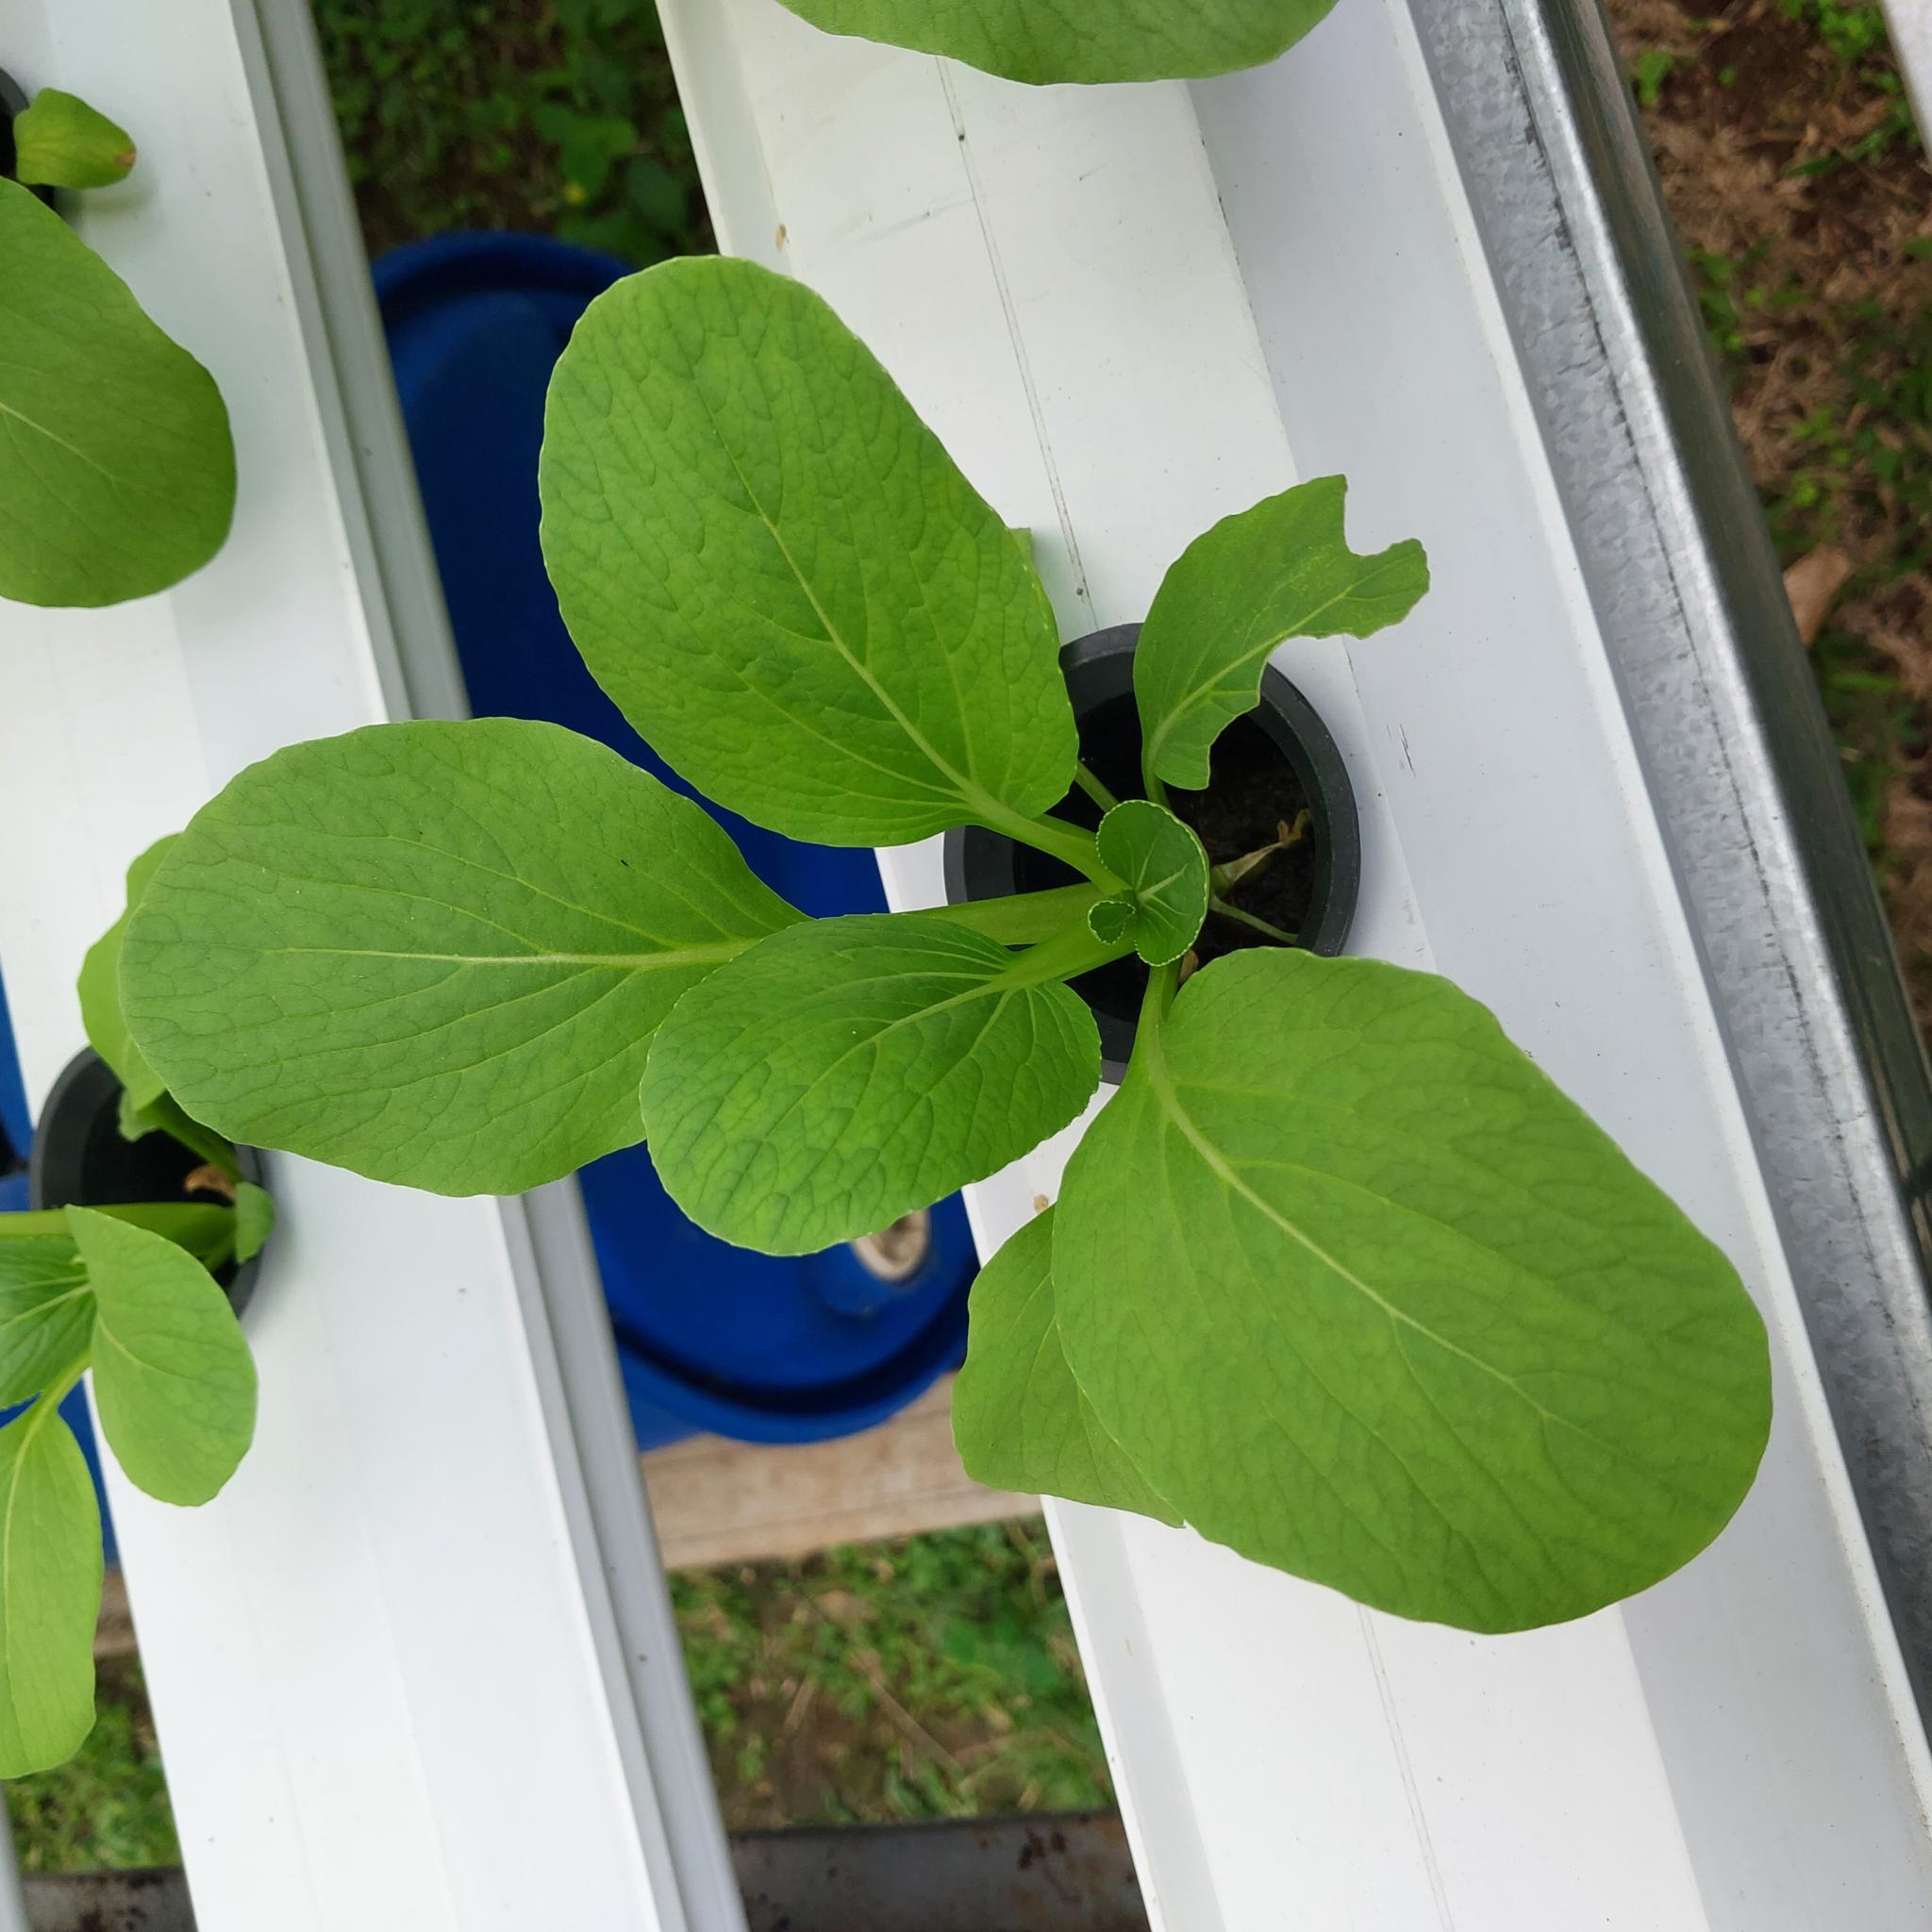Healthy-Pechay: (1042, 964, 1766, 1628), (534, 255, 1053, 849), (649, 915, 1070, 1242), (2, 147, 237, 612), (1127, 471, 1437, 821), (179, 798, 717, 961), (64, 865, 281, 1205), (60, 1203, 260, 1513), (959, 1184, 1138, 1525), (812, 0, 1353, 85), (2, 1375, 103, 1782), (0, 1223, 99, 1435), (7, 85, 138, 191), (527, 99, 637, 205), (1332, 541, 1428, 623), (619, 154, 690, 241), (1824, 113, 1914, 173), (1810, 4, 1886, 69), (120, 835, 177, 916), (115, 1083, 170, 1145), (1631, 46, 1677, 106), (1780, 149, 1851, 182)
